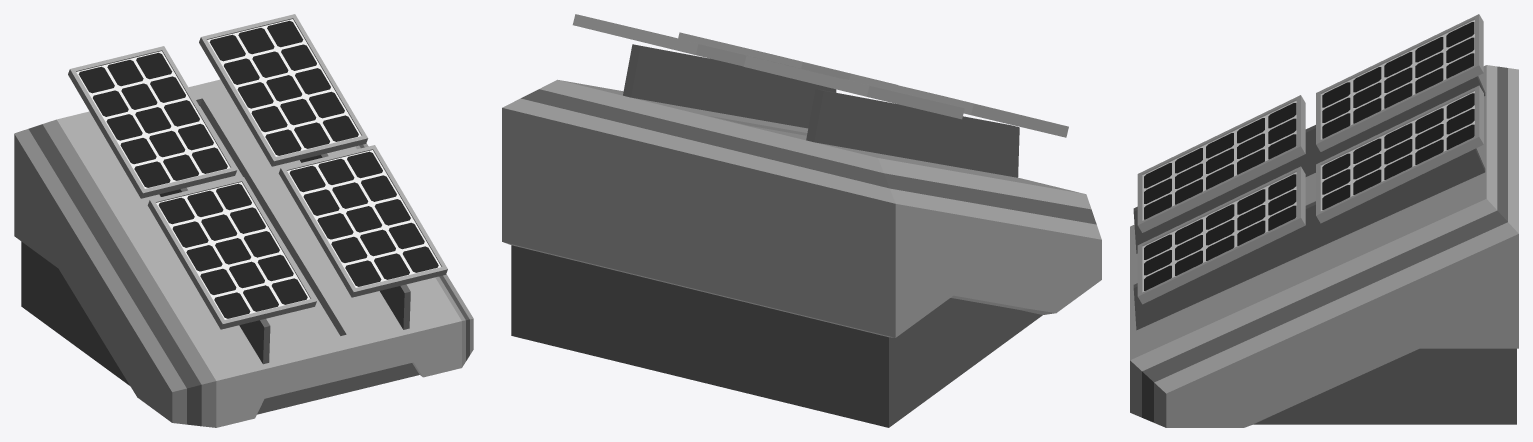
The model's file is Solar Panel Structure.glb.
3 views of the same model, side by side, from view 1: azimuth 30°, elevation 25°; view 2: azimuth 150°, elevation 25°; view 3: azimuth 270°, elevation 25° (orthographic). The views are drawn at different scales.
Visible parts, largest first — view 1: SolarPanel_Structure; view 2: SolarPanel_Structure; view 3: SolarPanel_Structure.
Part boxes in pixels (x1=…): SolarPanel_Structure: x1=14, y1=14, x2=473, y2=427; SolarPanel_Structure: x1=502, y1=14, x2=1101, y2=427; SolarPanel_Structure: x1=1130, y1=14, x2=1518, y2=427.
Size of the model in its own units: 4 by 3.07 by 4.
Materials: 1 (1 with a texture image).
